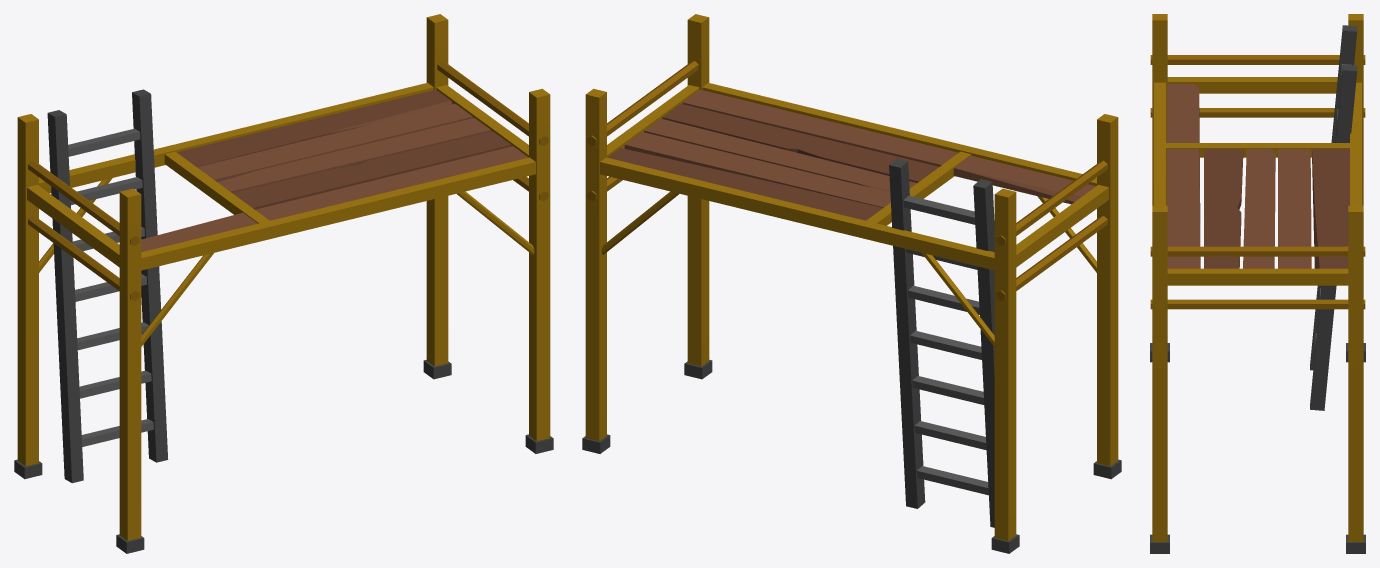
Rendered from Scaffolding_02.fbx.
3 views of the same model, side by side, from view 1: azimuth 30°, elevation 25°; view 2: azimuth 150°, elevation 25°; view 3: azimuth 270°, elevation 25° (orthographic). The views are drawn at different scales.
Parts seen in each view (by area): view 1: Scaffolding_02; view 2: Scaffolding_02; view 3: Scaffolding_02.
Part boxes in pixels (x1,y1,x2,y2): Scaffolding_02: [14, 14, 553, 553]; Scaffolding_02: [582, 14, 1121, 553]; Scaffolding_02: [1150, 14, 1365, 553].
Bounding box in the file's own units: 315 × 251 × 143.
